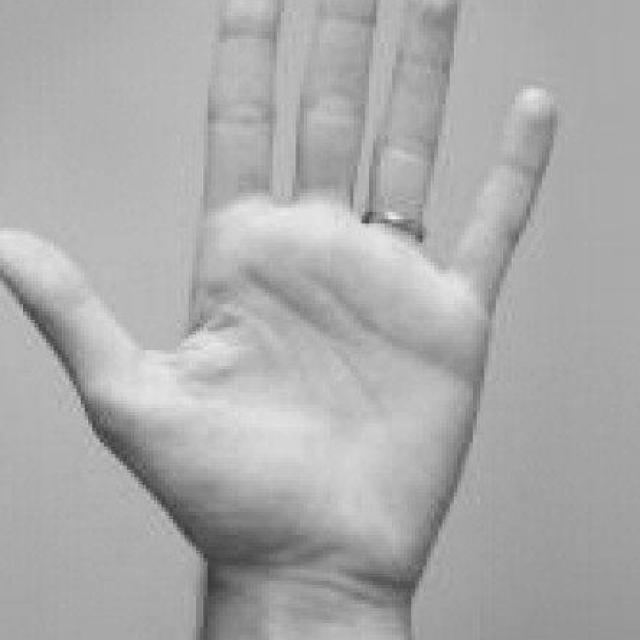stop: (0, 0, 566, 602)
